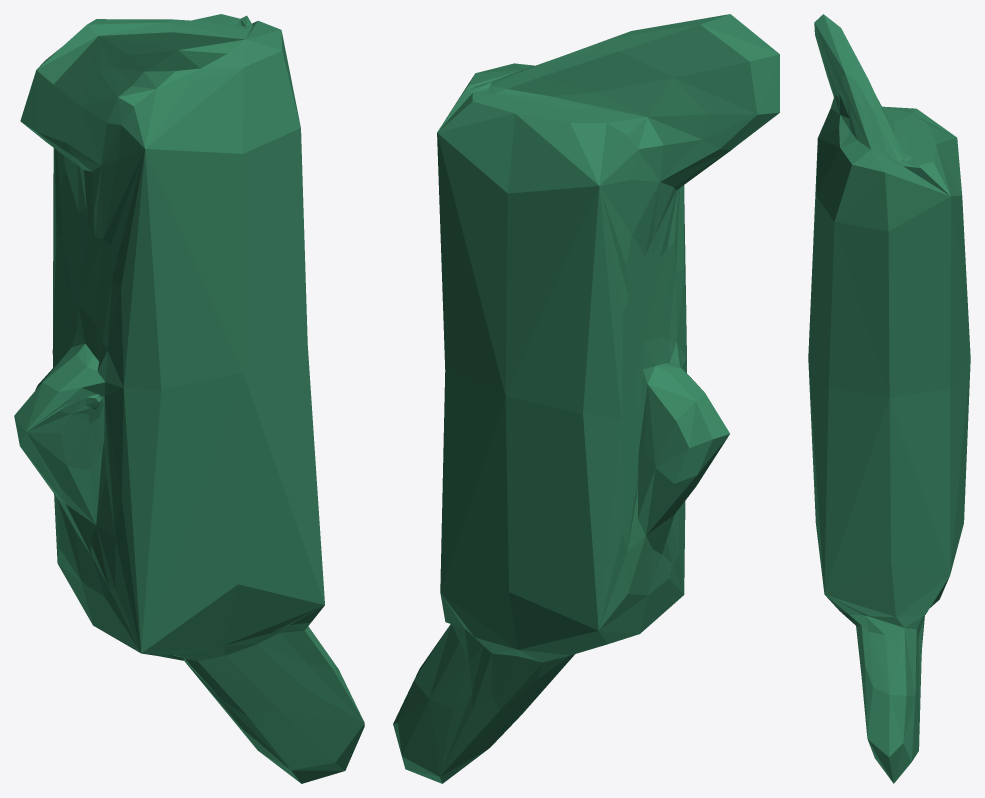
3 renders of one model, left to right at view 1: azimuth 30°, elevation 25°; view 2: azimuth 150°, elevation 25°; view 3: azimuth 270°, elevation 25°, orthographic. The views are drawn at different scales.
Visible parts, largest first — view 1: 876_Cube.3540; view 2: 876_Cube.3540; view 3: 876_Cube.3540.
Boxes of the visible parts, bbox=[...] form: 876_Cube.3540: bbox=[14, 14, 364, 783]; 876_Cube.3540: bbox=[393, 14, 779, 783]; 876_Cube.3540: bbox=[808, 14, 970, 783].
Size of the model in its own units: 8.37 by 18.03 by 4.03.
